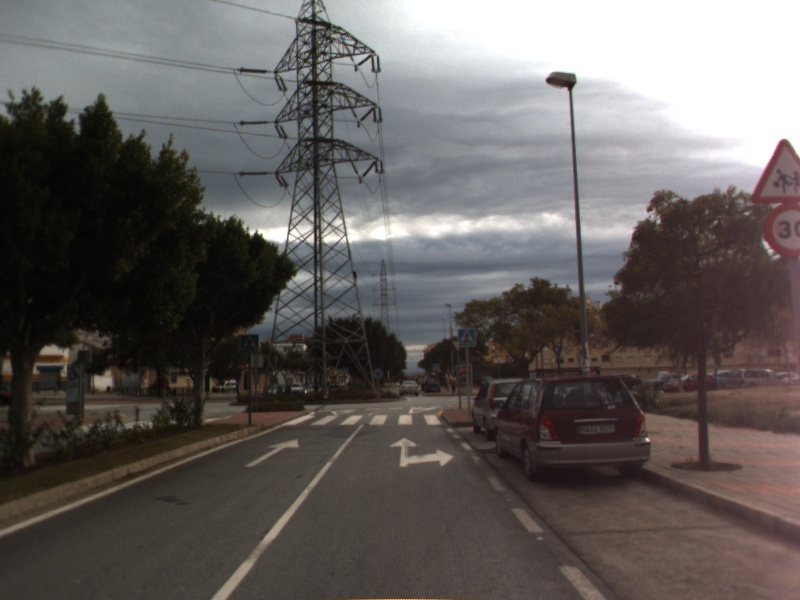STRAIGHT: (242, 437, 301, 469)
STRAIGHT_RIGHT: (387, 435, 456, 469)
